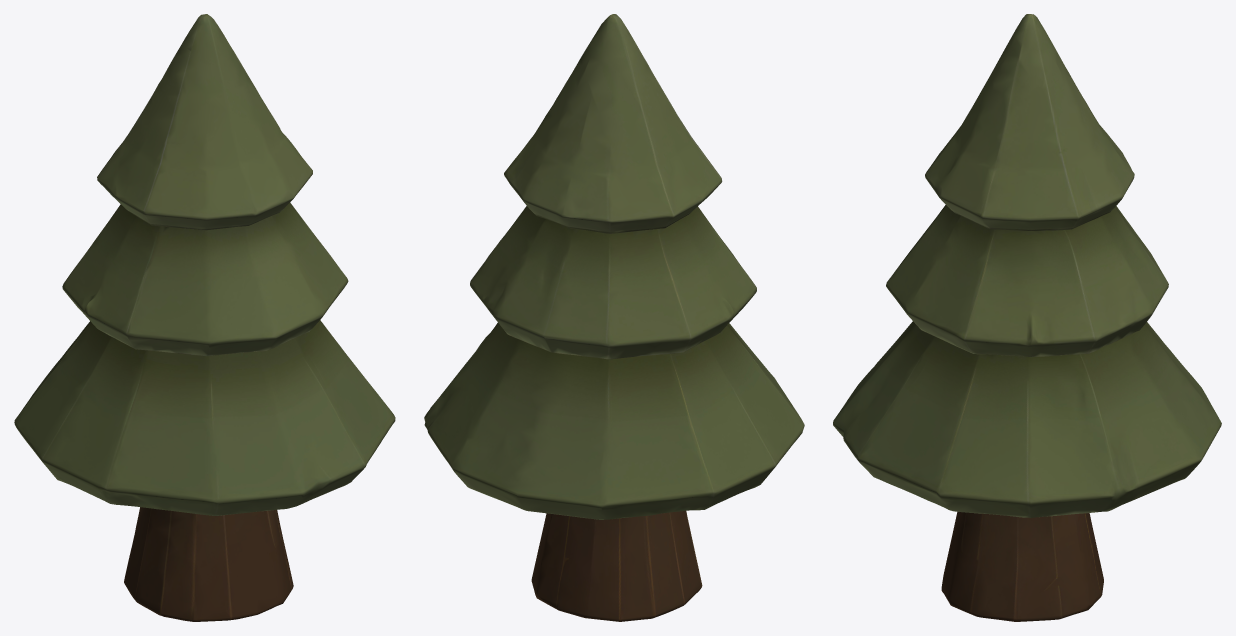
The model's file is tree.glb.
3 renders of one model, left to right at view 1: azimuth 30°, elevation 25°; view 2: azimuth 150°, elevation 25°; view 3: azimuth 270°, elevation 25°, orthographic.
Parts seen in each view (by area): view 1: tripo_node_02121249-2ac3-4837-b788-1b205908f58e; view 2: tripo_node_02121249-2ac3-4837-b788-1b205908f58e; view 3: tripo_node_02121249-2ac3-4837-b788-1b205908f58e.
Part boxes in pixels (box(x1,y1,x2,y2)): tripo_node_02121249-2ac3-4837-b788-1b205908f58e: box(14, 14, 395, 621); tripo_node_02121249-2ac3-4837-b788-1b205908f58e: box(424, 14, 804, 621); tripo_node_02121249-2ac3-4837-b788-1b205908f58e: box(833, 14, 1221, 621).
Size of the model in its own units: 0.5889 by 1 by 0.6089.
1 material, 1 textured.
